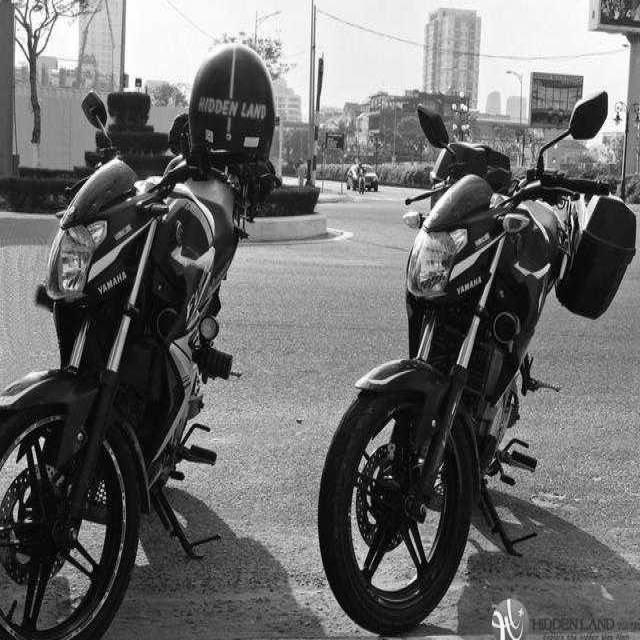Motorcycle: (316, 84, 640, 625), (0, 47, 274, 638)
